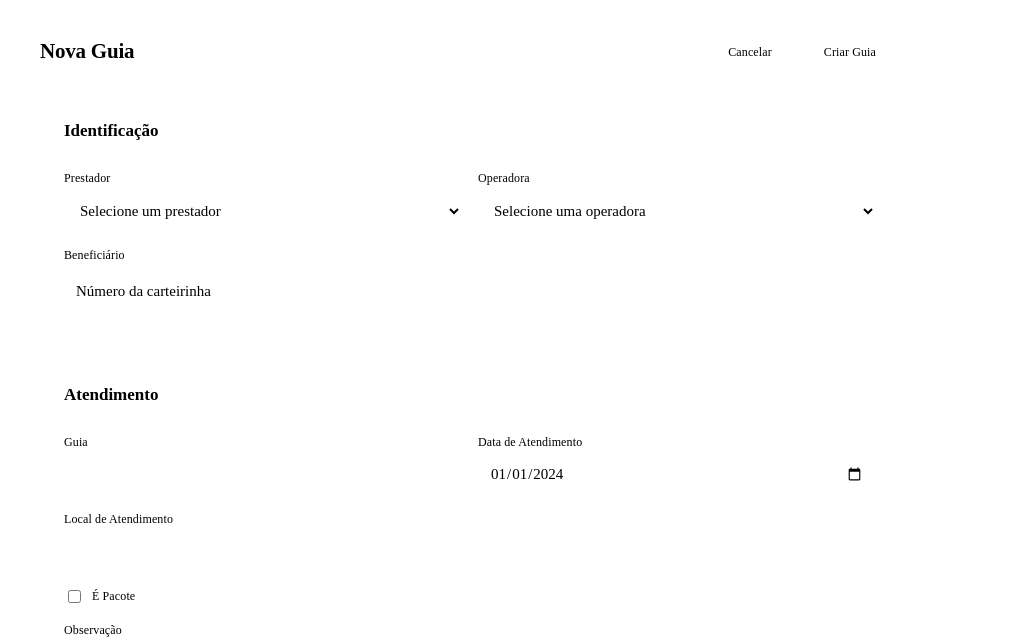
Test: GuiaFormComponent › criar_Erro400ComSemTabela_ExibeMensagemDetalhe
Step 1. Click the button with class "guia-form__btn-salvar" → (850, 52), box [800,32,900,72]
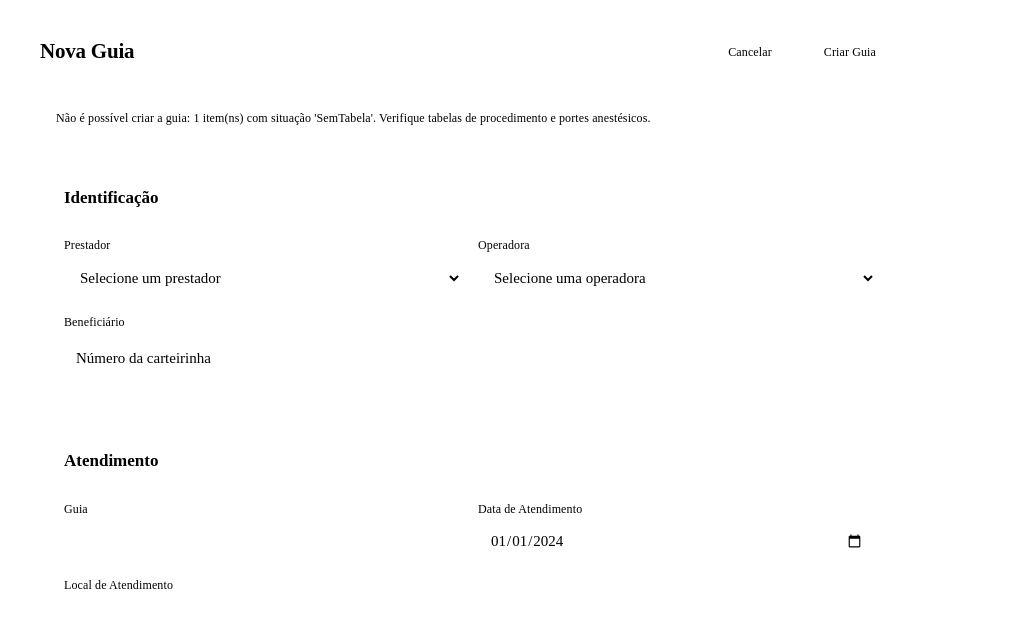
Expected: the text with class "guia-form__erro-validacao" shows "SemTabela", [56,111,651,125]
